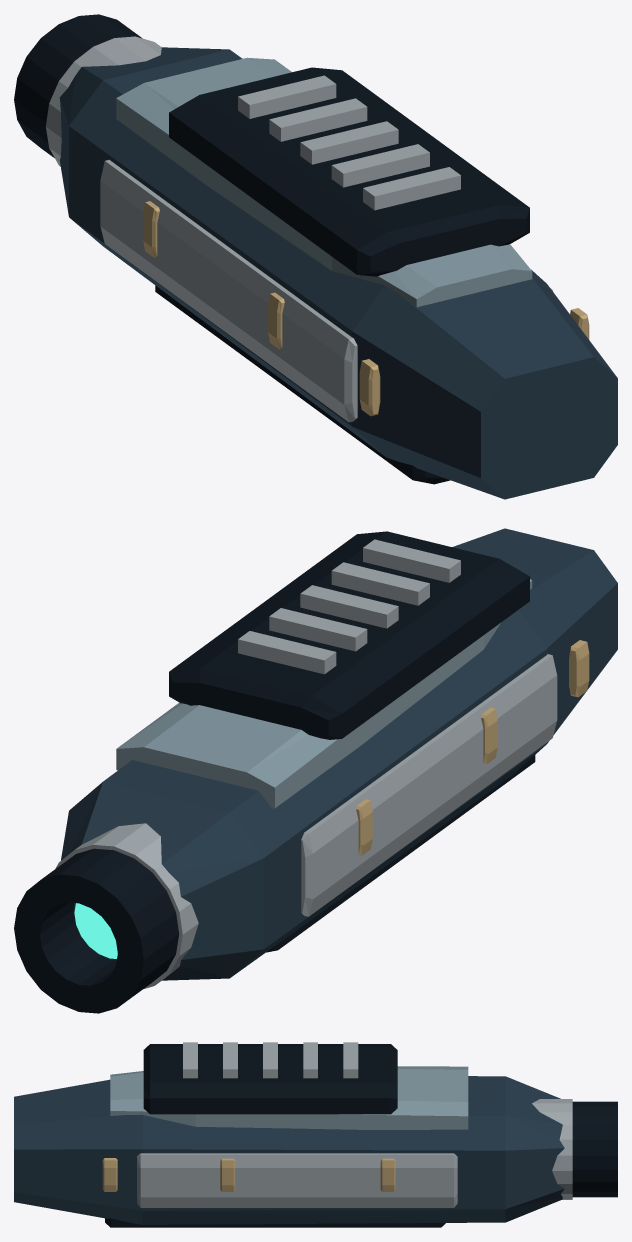
The model's file is cockpit_gun.glb.
The picture shows the model from 3 angles, top to bottom: view 1: azimuth 30°, elevation 25°; view 2: azimuth 150°, elevation 25°; view 3: azimuth 270°, elevation 25°; orthographic projection. The views are drawn at different scales.
Visible parts, largest first — view 1: cockpit_gun; view 2: cockpit_gun; view 3: cockpit_gun.
Boxes of the visible parts, left/top/right/bottom form: cockpit_gun: left=14, top=14, right=617, bottom=499; cockpit_gun: left=14, top=528, right=617, bottom=1013; cockpit_gun: left=14, top=1042, right=617, bottom=1227.
Bounding box in the file's own units: 0.306 × 0.328 × 1.13.
